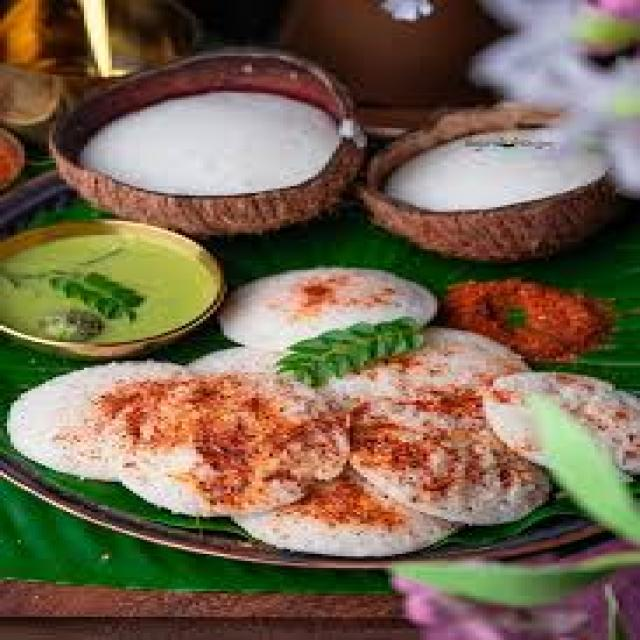IDLI: (105, 375, 343, 510), (350, 391, 549, 521), (10, 361, 182, 479), (231, 468, 455, 556), (224, 268, 434, 347), (332, 328, 525, 396)
